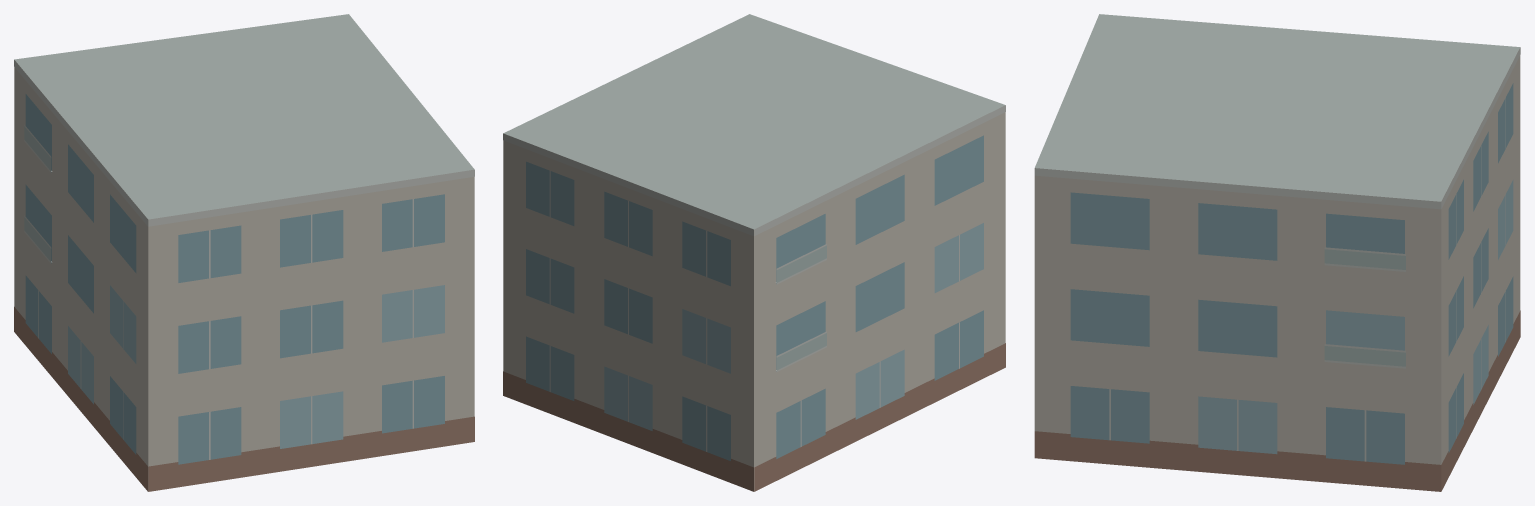
Rendered from survey-upis-32899064.glb.
3 renders of one model, left to right at view 1: azimuth 30°, elevation 25°; view 2: azimuth 150°, elevation 25°; view 3: azimuth 270°, elevation 25°, orthographic. The views are drawn at different scales.
Visible parts, largest first — view 1: survey-upis-32899064.tmp; view 2: survey-upis-32899064.tmp; view 3: survey-upis-32899064.tmp.
Boxes of the visible parts, <box> form: survey-upis-32899064.tmp: <box>14,14,474,491</box>; survey-upis-32899064.tmp: <box>503,14,1005,491</box>; survey-upis-32899064.tmp: <box>1034,14,1520,491</box>.
Size of the model in its own units: 12.92 by 9.3 by 14.13.
